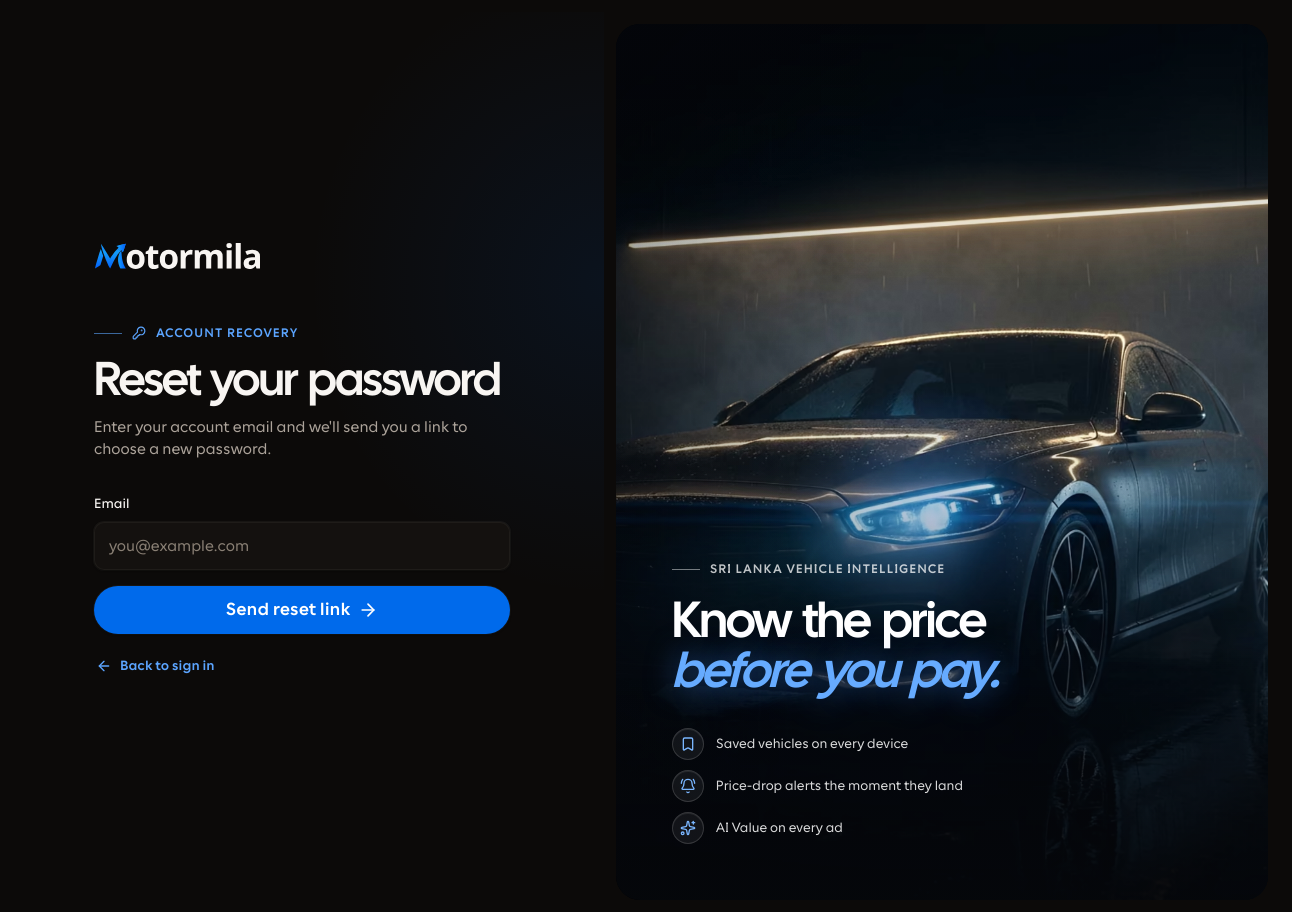
Test: ForgotPassword page › submits the email and shows the same neutral confirmation for any address
In the field labelled "Email": x=302, y=546 [94,522,510,570], type " User@Example.com "
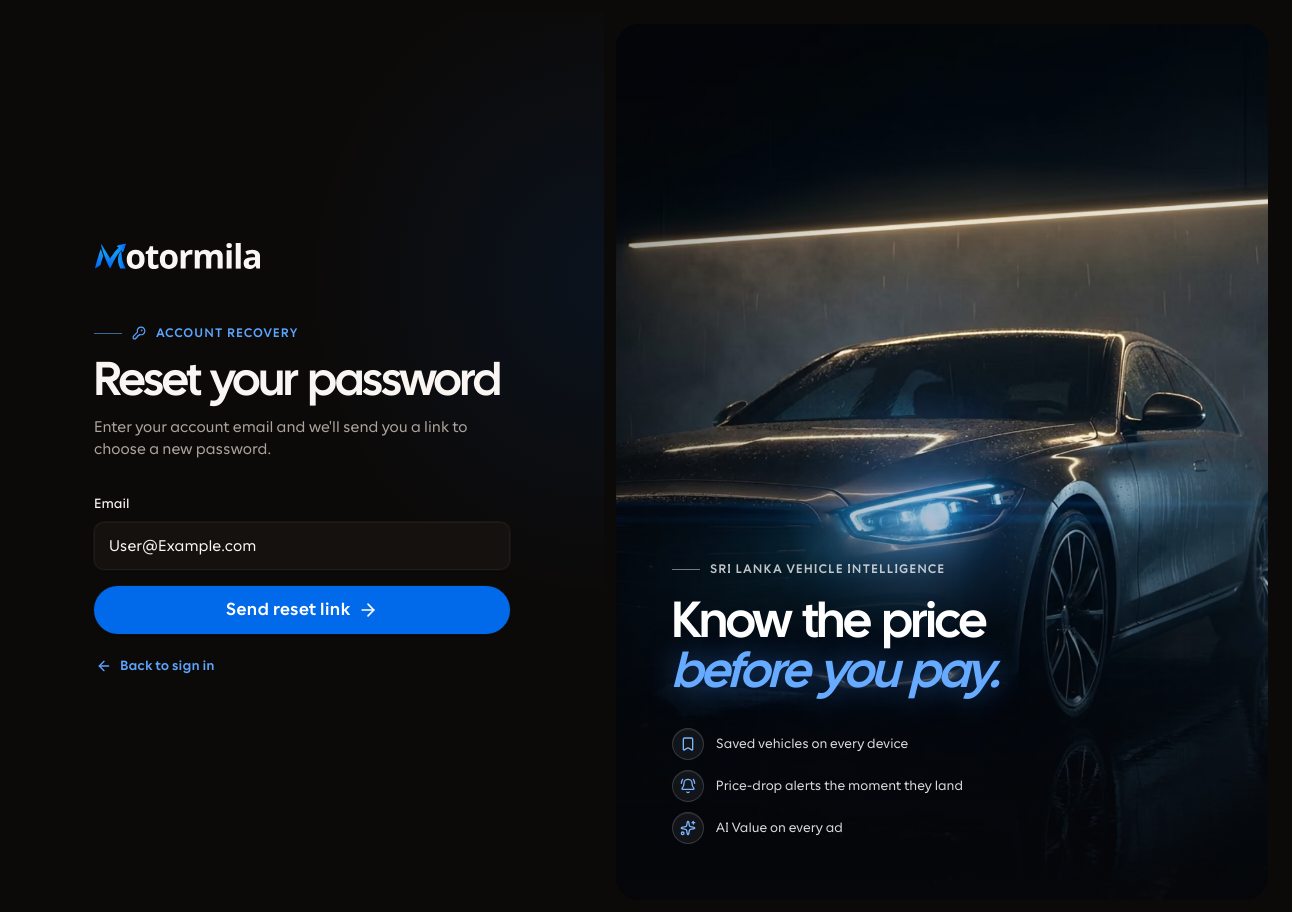
Click the button "Send reset link": x=302, y=610 [94,586,510,634]
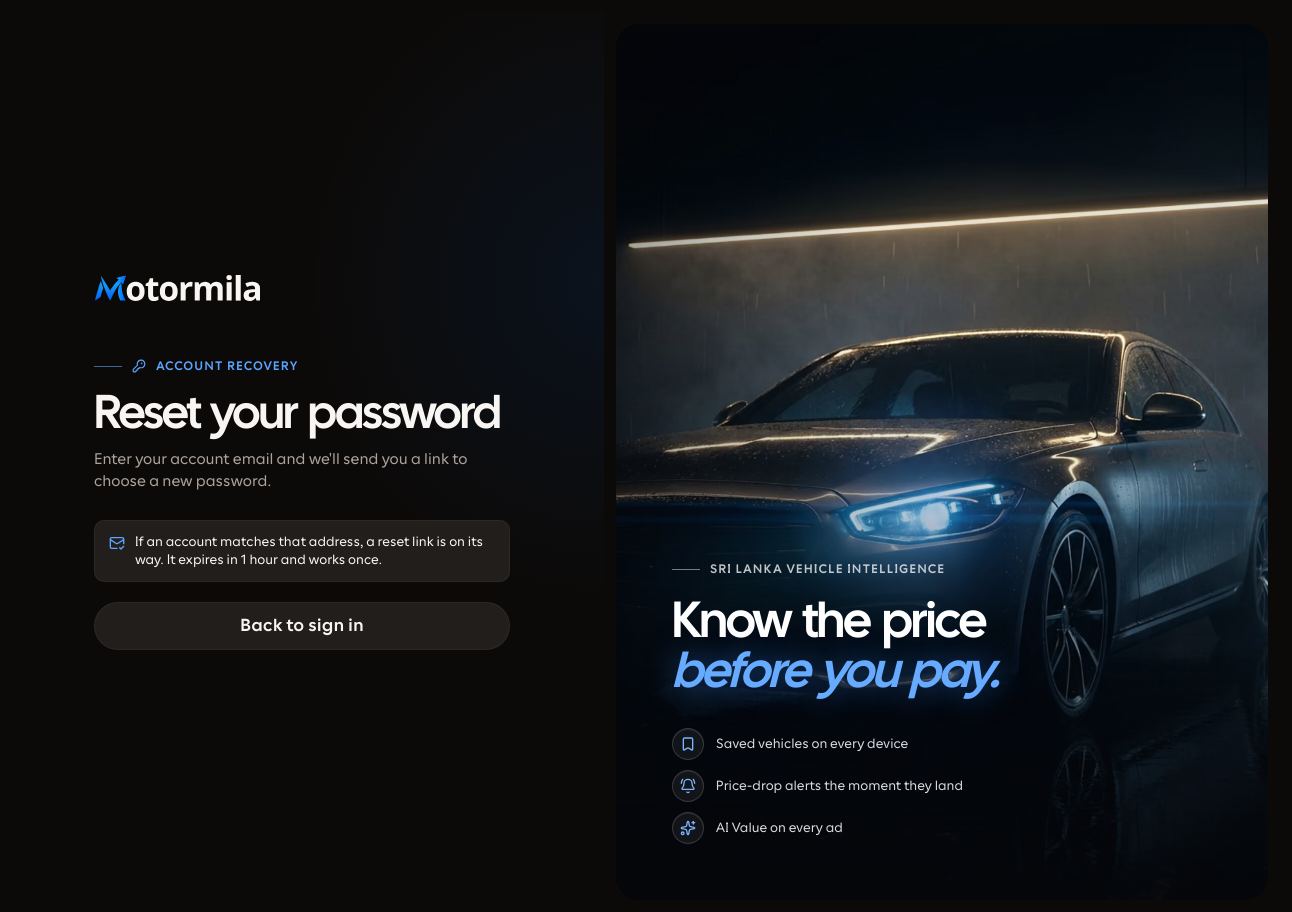
Expected: the text "If an account matches that address" is shown, [135,534,483,567]
